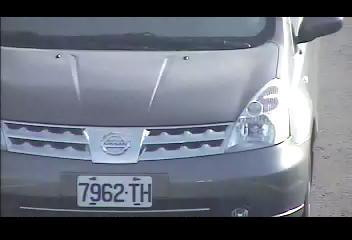plate: (74, 174, 153, 208)
